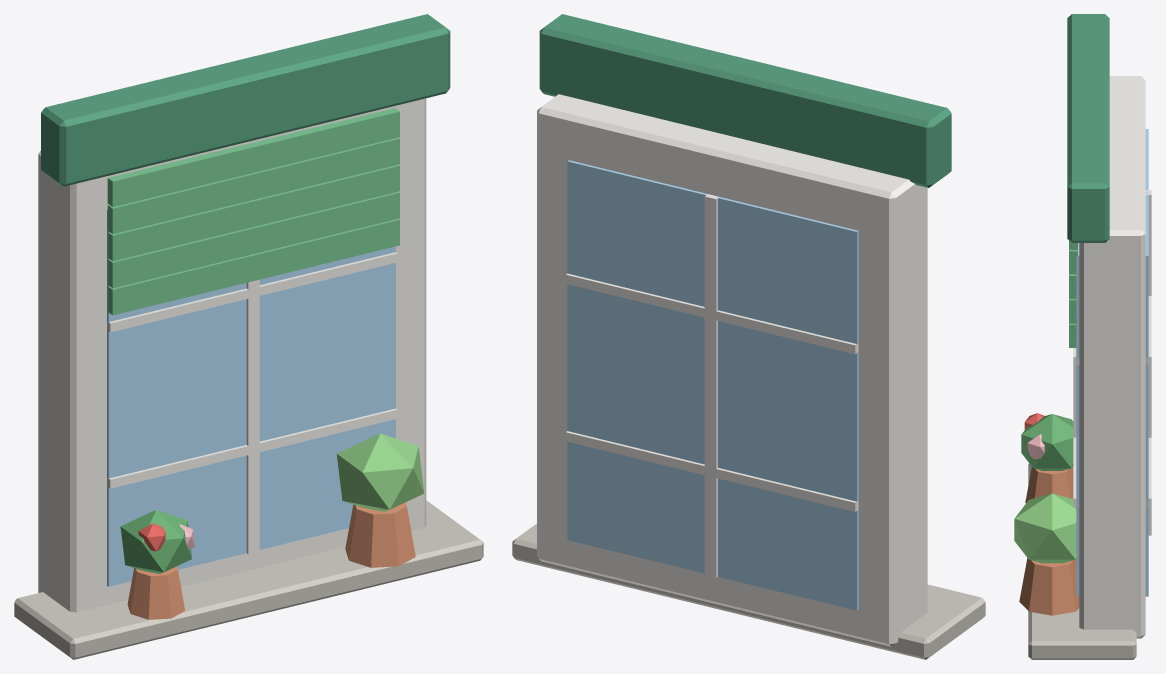
The model's file is env_window_01.glb.
3 views of the same model, side by side, from view 1: azimuth 30°, elevation 25°; view 2: azimuth 150°, elevation 25°; view 3: azimuth 270°, elevation 25° (orthographic). The views are drawn at different scales.
Parts seen in each view (by area): view 1: env_window_01_body; view 2: env_window_01_body; view 3: env_window_01_body.
Part boxes in pixels (x1,y1,x2,y2): env_window_01_body: (14,14,483,659); env_window_01_body: (512,14,985,659); env_window_01_body: (1014,14,1151,659).
Size of the model in its own units: 1.44 by 1.73 by 0.4563.
